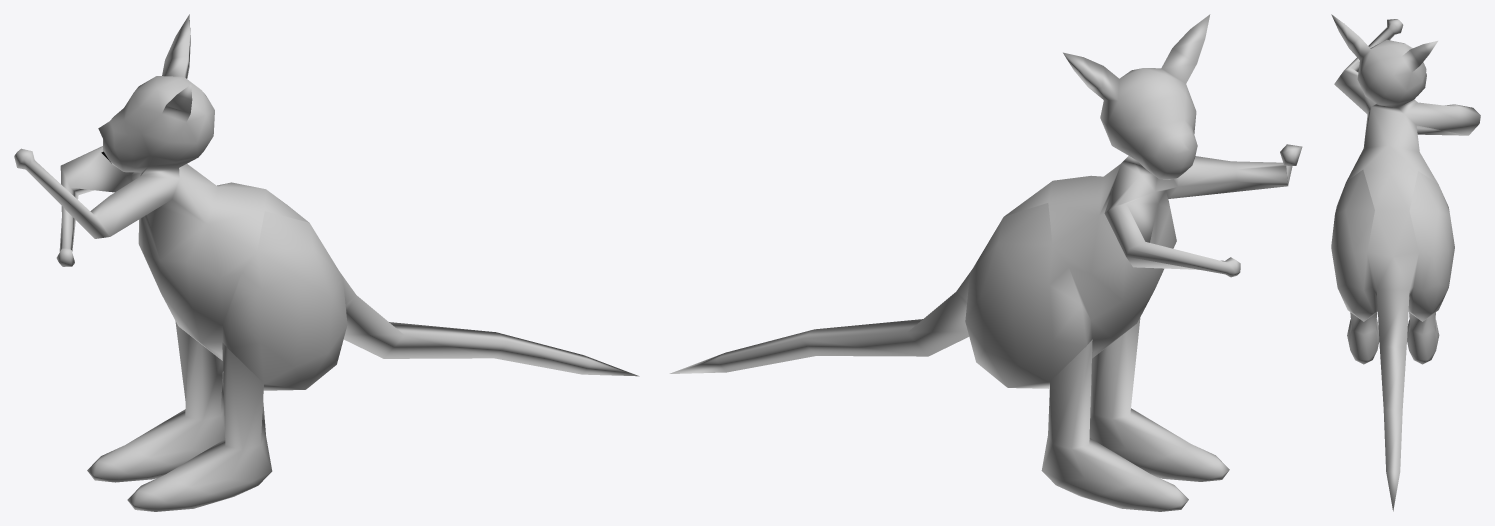
Rendered from Kang.fbx.
3 renders of one model, left to right at view 1: azimuth 30°, elevation 25°; view 2: azimuth 150°, elevation 25°; view 3: azimuth 270°, elevation 25°, orthographic. The views are drawn at different scales.
Parts seen in each view (by area): view 1: Icosphere.003; view 2: Icosphere.003; view 3: Icosphere.003.
Boxes of the visible parts, x1,y1,x2,y2 form: Icosphere.003: (14, 14, 639, 511); Icosphere.003: (669, 14, 1302, 511); Icosphere.003: (1331, 14, 1480, 511).
Size of the model in its own units: 1495 by 1023 by 428.
